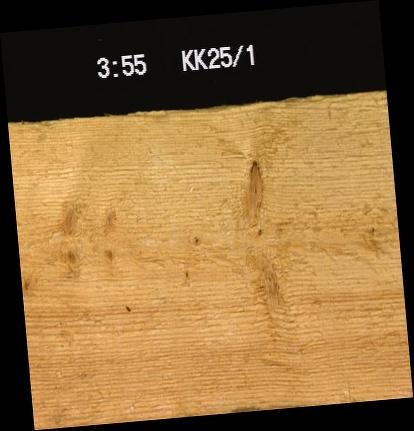small_knot: (21, 270, 39, 295), (98, 242, 118, 264), (365, 220, 379, 238), (179, 265, 193, 283), (188, 230, 202, 247)
